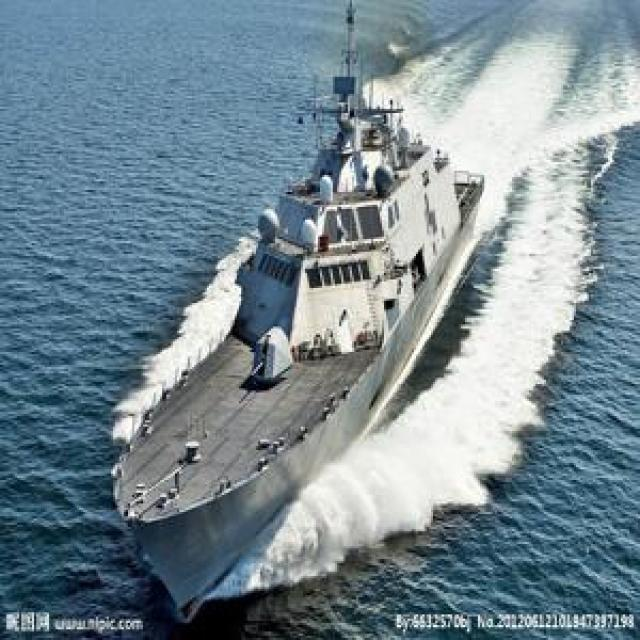navalvessels: (102, 0, 484, 610)
